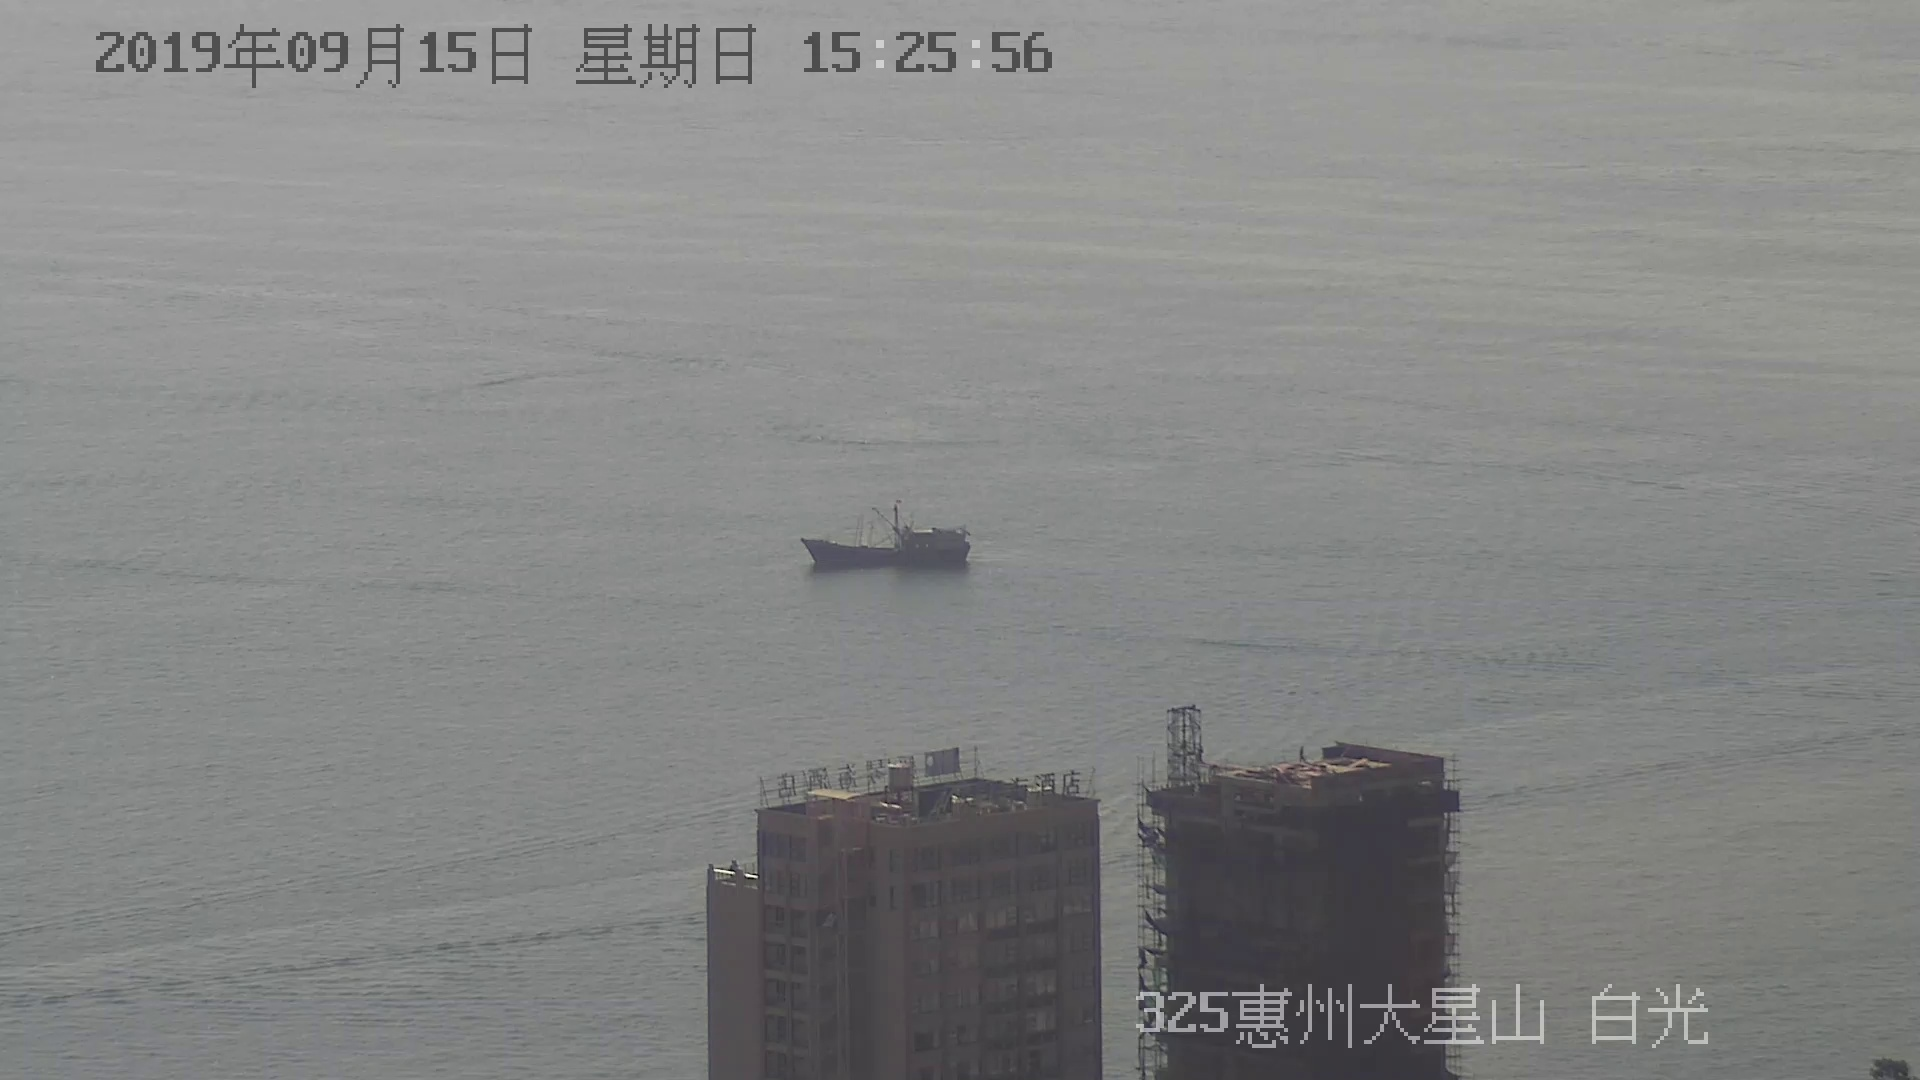ship: (803, 497, 975, 571)
